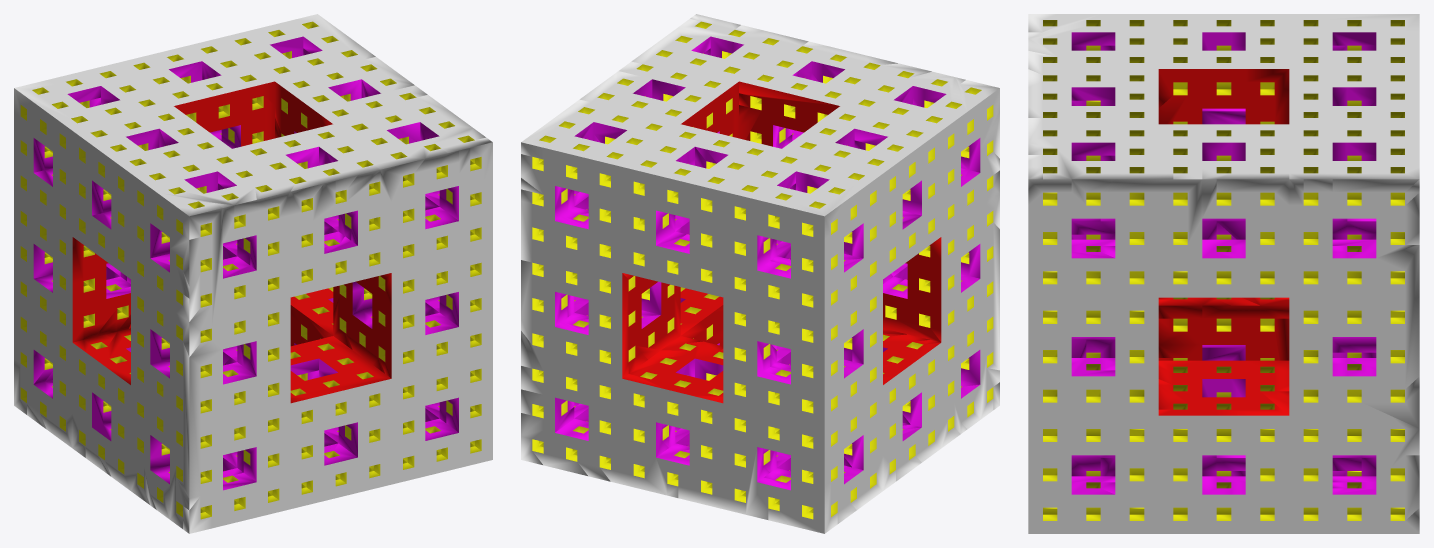
The model's file is esponja.glb.
The picture shows the model from 3 angles, left to right: view 1: azimuth 30°, elevation 25°; view 2: azimuth 150°, elevation 25°; view 3: azimuth 270°, elevation 25°; orthographic projection. The views are drawn at different scales.
Visible parts, largest first — view 1: Object_2; view 2: Object_2; view 3: Object_2.
Boxes of the visible parts, x1,y1,x2,y2 form: Object_2: (14, 14, 492, 533); Object_2: (521, 14, 999, 533); Object_2: (1028, 14, 1419, 533).
Bounding box in the file's own units: 1.17 × 1.17 × 1.17.
